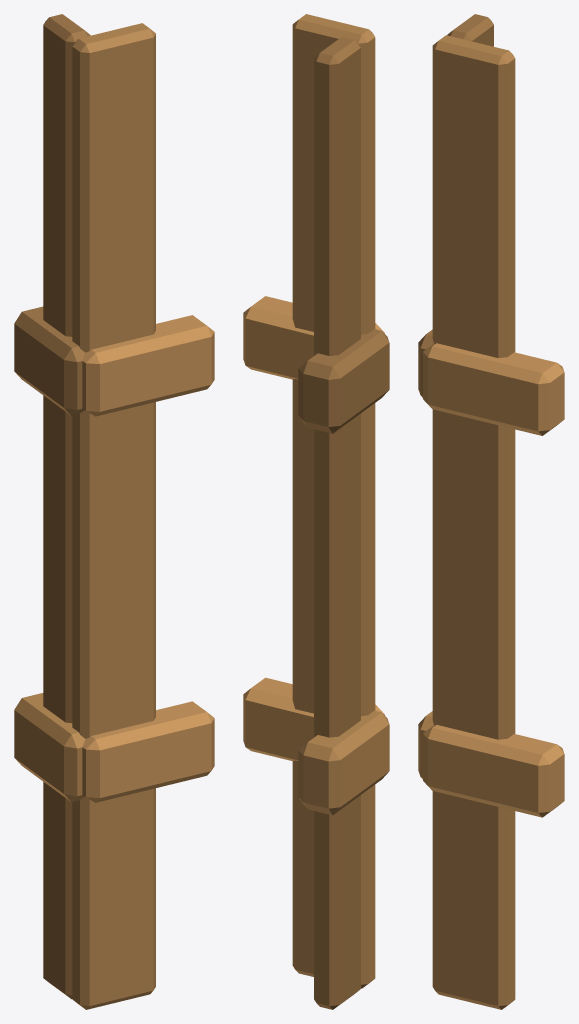
The model's file is exterior_corner_trim.glb.
3 views of the same model, side by side, from view 1: azimuth 30°, elevation 25°; view 2: azimuth 150°, elevation 25°; view 3: azimuth 330°, elevation 25° (orthographic).
Visible parts, largest first — view 1: exterior_corner_trim; view 2: exterior_corner_trim; view 3: exterior_corner_trim.
Boxes of the visible parts, x1,y1,x2,y2 form: exterior_corner_trim: [14, 14, 214, 1009]; exterior_corner_trim: [243, 14, 389, 1009]; exterior_corner_trim: [418, 14, 564, 1009].
Size of the model in its own units: 0.28 by 1.82 by 0.23.
